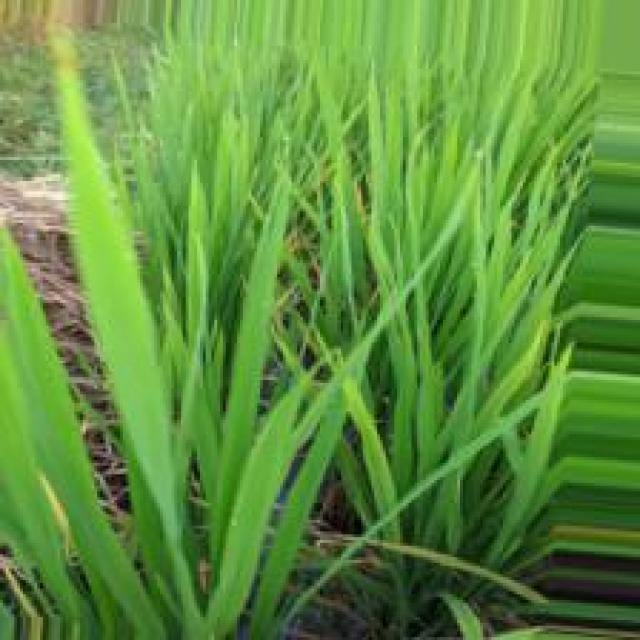HealthyLeaf: (69, 155, 307, 640)
